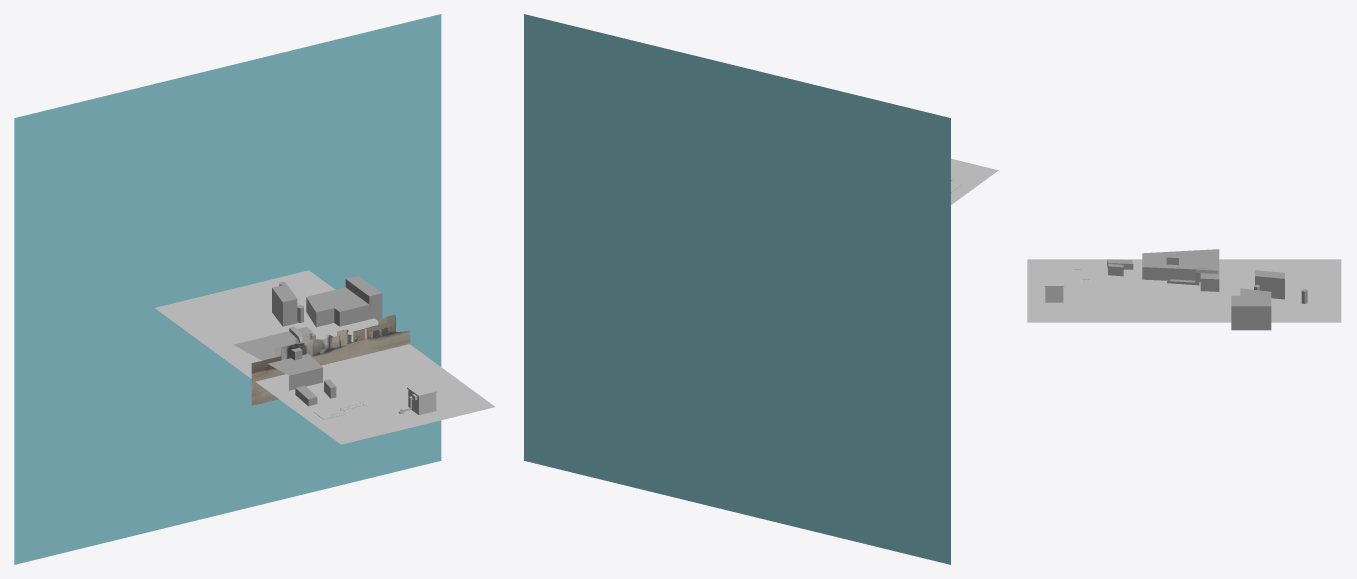
The model's file is PlayField_withbg_bgplane.fbx.
3 renders of one model, left to right at view 1: azimuth 30°, elevation 25°; view 2: azimuth 150°, elevation 25°; view 3: azimuth 270°, elevation 25°, orthographic. The views are drawn at different scales.
Parts seen in each view (by area): view 1: sky_plane, Ground_plane, BG_plane, pCube22, pCube20, pCube21, building; view 2: sky_plane, Ground_plane; view 3: Ground_plane, pCube20, pCube22, pCube21, building.
Part boxes in pixels (x1,y1,x2,y2): sky_plane: (14,14,441,564); Ground_plane: (155,270,494,444); BG_plane: (251,315,410,405); pCube22: (306,276,382,327); pCube20: (233,327,322,390); pCube21: (272,284,297,326); building: (398,382,437,415); sky_plane: (524,14,950,564); Ground_plane: (951,158,998,204); Ground_plane: (1027,259,1341,322); pCube20: (1142,249,1219,291); pCube22: (1231,288,1271,330); pCube21: (1255,270,1284,299); building: (1044,278,1064,302).
Size of the model in its own units: 123 by 123 by 93.63.
